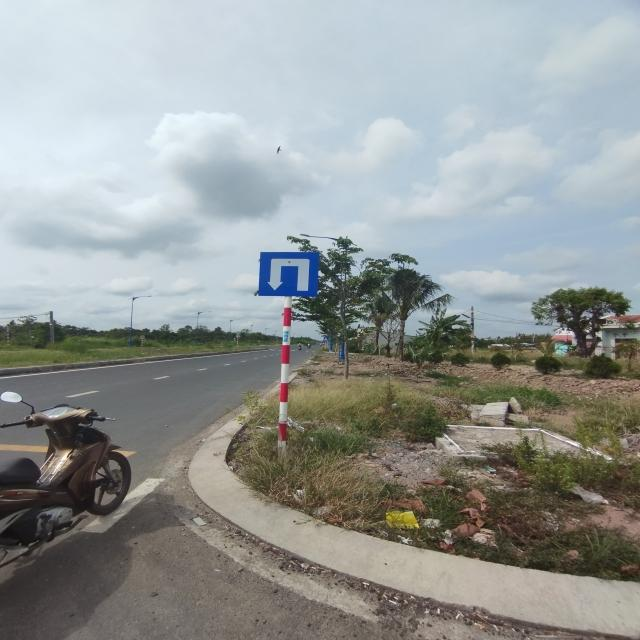Den_Giao_Thong: (259, 252, 318, 296)
